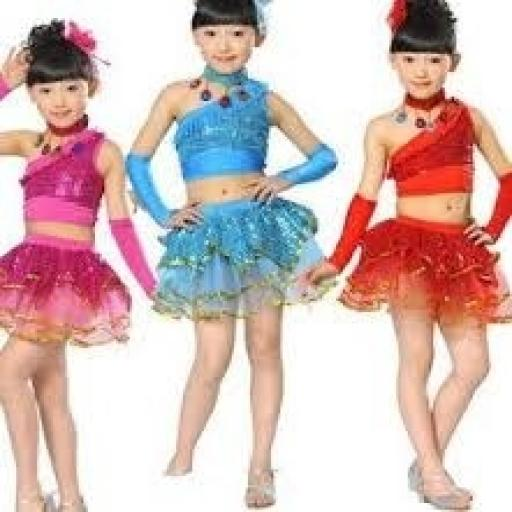dancing: (120, 0, 340, 510), (294, 0, 510, 510), (0, 16, 160, 510)
